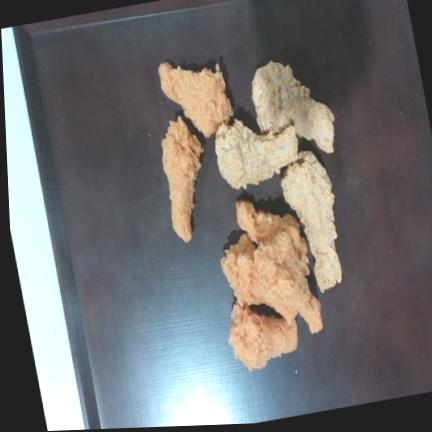chicken: (281, 151, 341, 292), (252, 60, 334, 152), (254, 231, 322, 332), (215, 118, 297, 188), (158, 62, 233, 136), (161, 116, 202, 242), (228, 301, 297, 370)
